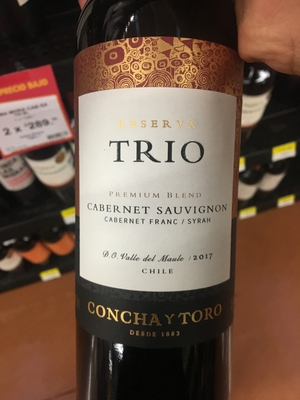trio cabernet sauvignon: (73, 5, 248, 400)
